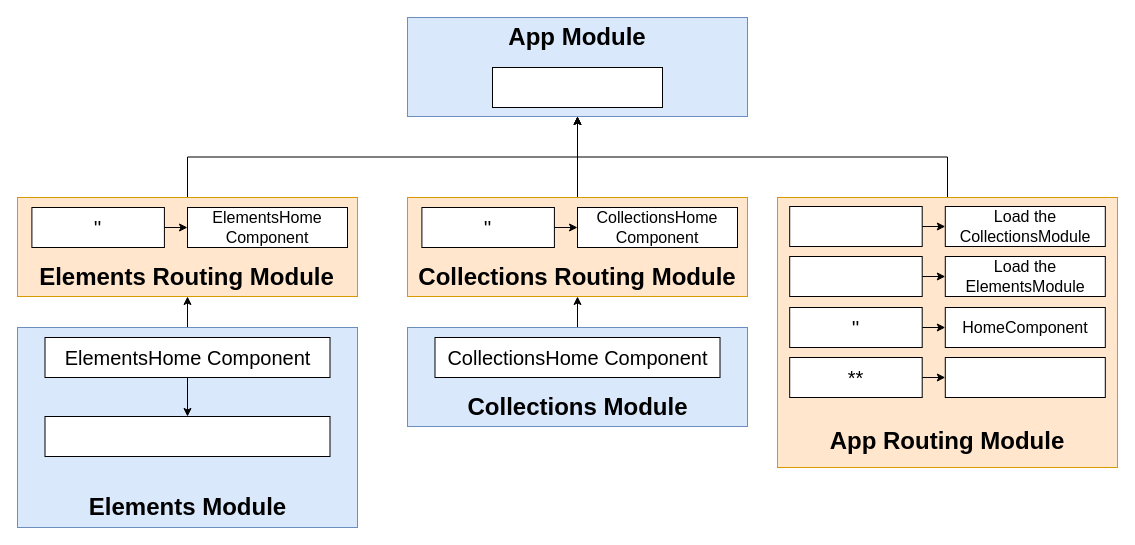
The diagram is 1135 pixels wide and 545 high, and some of its shapes have lost their labels. The shapes that lost their labels are listed below. From the top down, each one's centre as x and y in pixels, then its label:
At pixel 577 87: "App Component".
At pixel 855 226: "collections".
At pixel 855 276: "elements".
At pixel 1024 377: "NotFoundComponent".
At pixel 187 436: "Placeholder Component".
